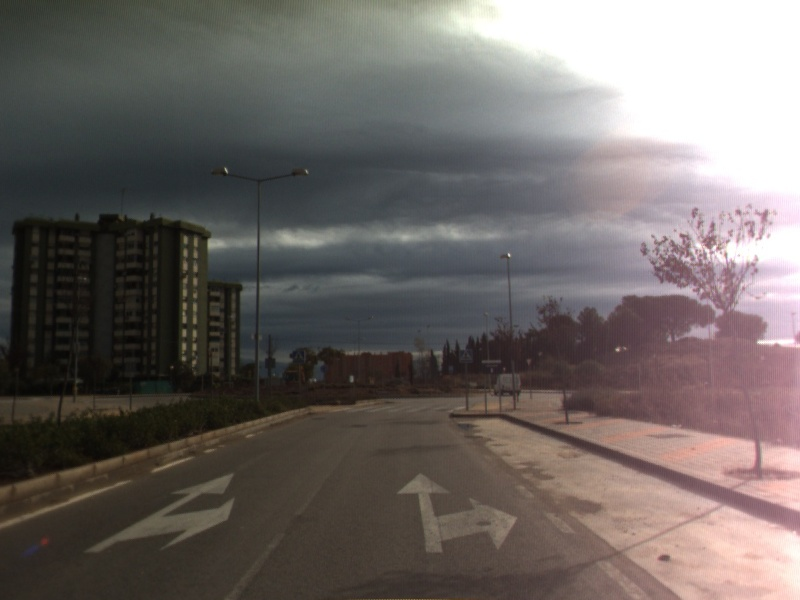STRAIGHT_RIGHT: (81, 470, 237, 556), (395, 470, 520, 555)
